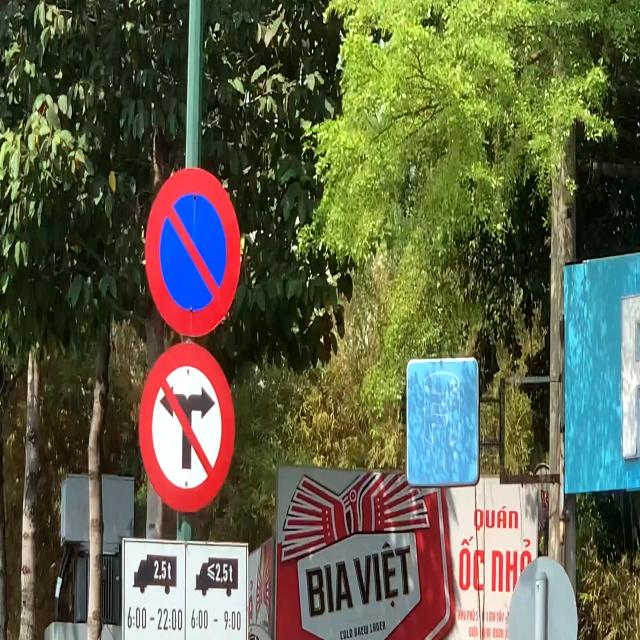P.131a: (143, 168, 245, 340)
P.137: (133, 342, 238, 522)
